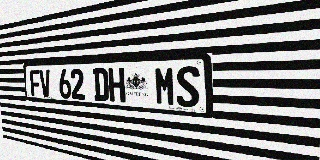2: (70, 69, 85, 100)
6: (58, 69, 72, 99)
D: (93, 68, 109, 101)
F: (29, 70, 41, 97)
H: (108, 68, 126, 103)
M: (154, 66, 176, 106)
S: (176, 66, 200, 108)
V: (39, 70, 51, 97)
